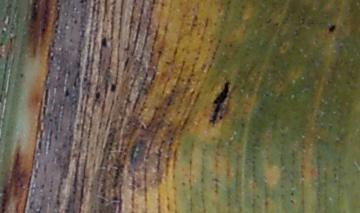tarspot: (211, 82, 231, 126), (101, 35, 109, 49), (63, 87, 71, 99), (328, 22, 336, 34), (93, 90, 101, 100), (110, 83, 116, 93), (111, 194, 119, 201), (18, 71, 25, 79), (218, 114, 225, 121), (73, 18, 78, 26), (289, 191, 295, 197), (80, 1, 85, 5)
